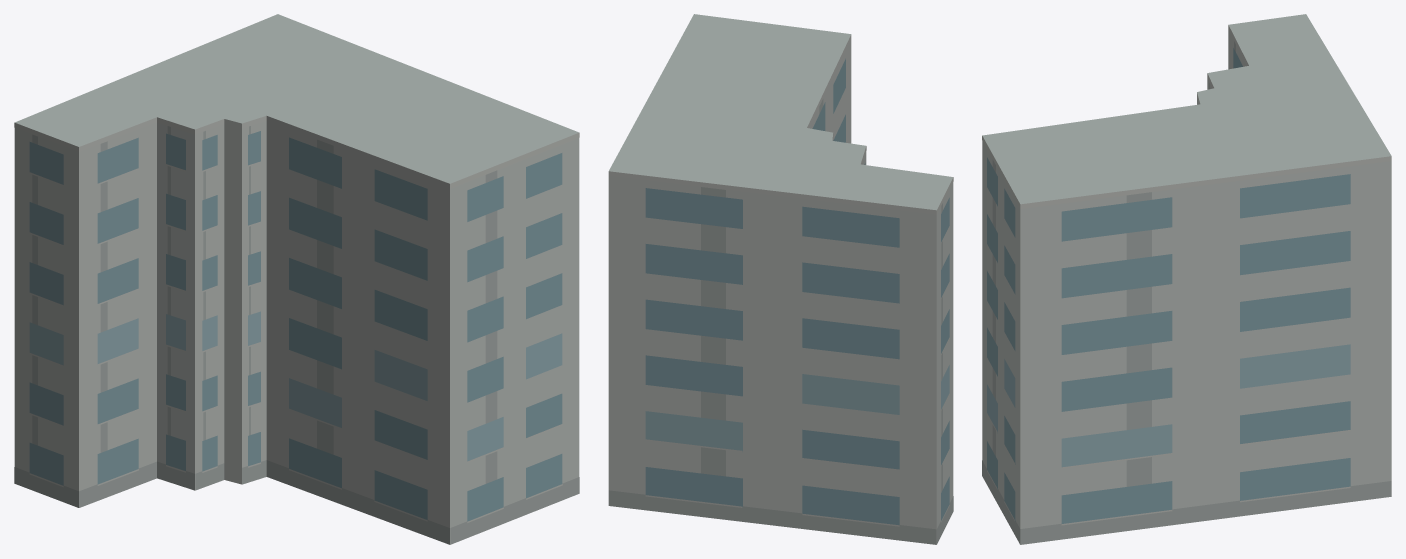
Rendered from survey-upis-32569545.glb.
3 views of the same model, side by side, from view 1: azimuth 30°, elevation 25°; view 2: azimuth 150°, elevation 25°; view 3: azimuth 270°, elevation 25° (orthographic). The views are drawn at different scales.
Parts seen in each view (by area): view 1: survey-upis-32569545.tmp; view 2: survey-upis-32569545.tmp; view 3: survey-upis-32569545.tmp.
Boxes of the visible parts, <box> form: survey-upis-32569545.tmp: <box>14,14,579,544</box>; survey-upis-32569545.tmp: <box>608,14,953,544</box>; survey-upis-32569545.tmp: <box>982,14,1391,544</box>.
Bounding box in the file's own units: 20.5 × 17.1 × 18.64.
